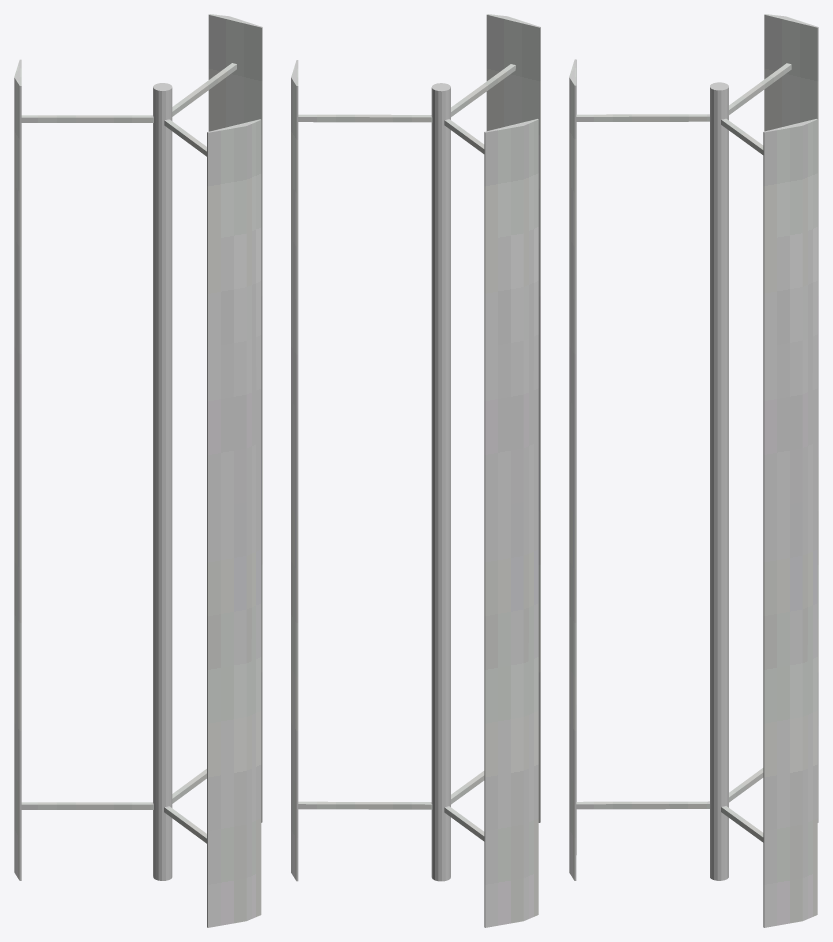
Rendered from windmill_straight.obj.
The picture shows the model from 3 angles, left to right: view 1: azimuth 30°, elevation 25°; view 2: azimuth 150°, elevation 25°; view 3: azimuth 270°, elevation 25°; orthographic projection.
Visible parts, largest first — view 1: cube, hexadecagon; view 2: cube, hexadecagon; view 3: cube, hexadecagon.
Part boxes in pixels (bbox=[...]): cube: bbox=[14, 14, 262, 927]; hexadecagon: bbox=[153, 83, 172, 880]; cube: bbox=[291, 14, 540, 927]; hexadecagon: bbox=[431, 83, 450, 881]; cube: bbox=[569, 14, 818, 927]; hexadecagon: bbox=[710, 82, 728, 880].
Bounding box in the file's own units: 0.9241 × 2.92 × 0.8228.
